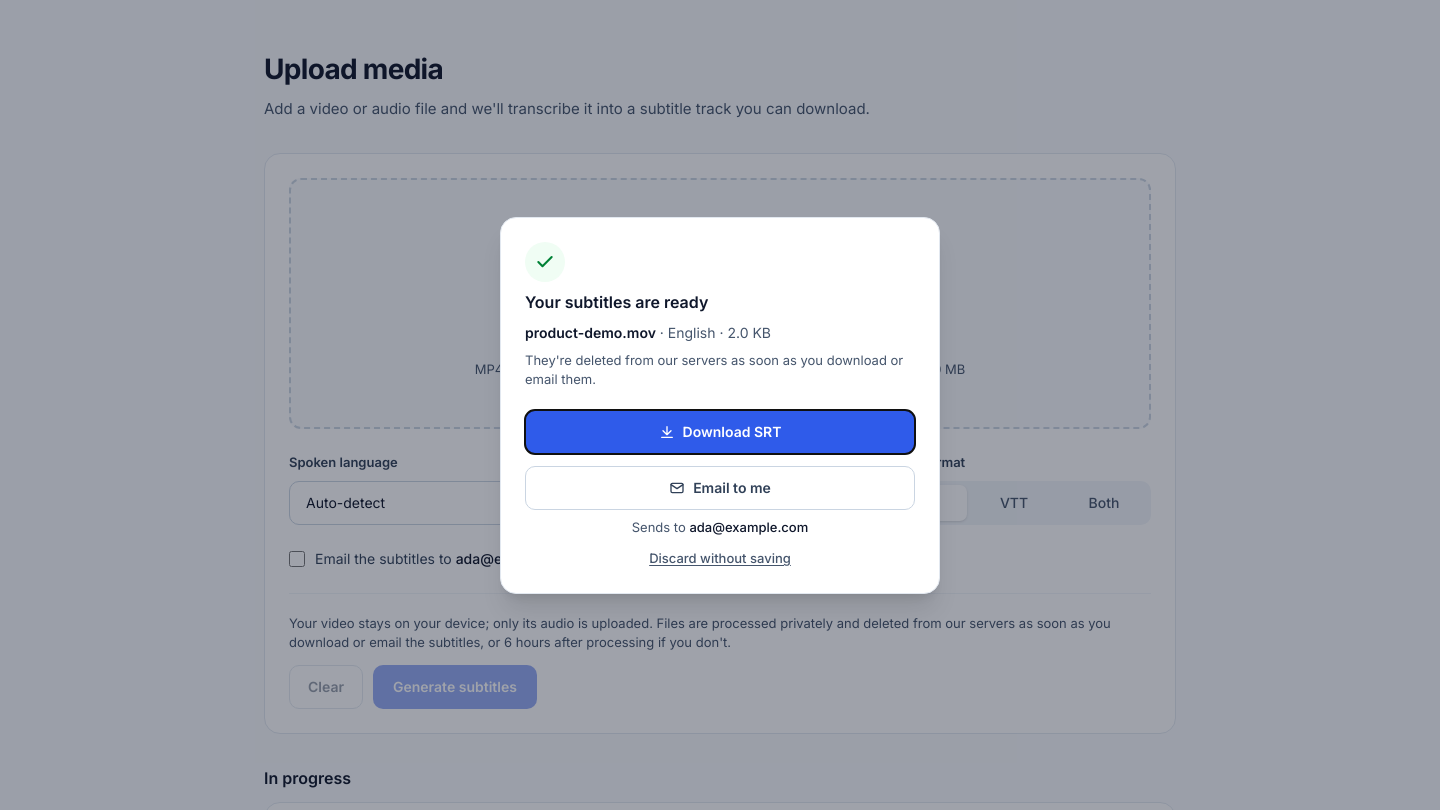
Scenario: ready subtitles › shows why discarding failed and stays open
This screenshot has width=1440, height=810.
Click the button "Discard without saving". click: (720, 559)
box: left=649, top=549, right=791, bottom=568
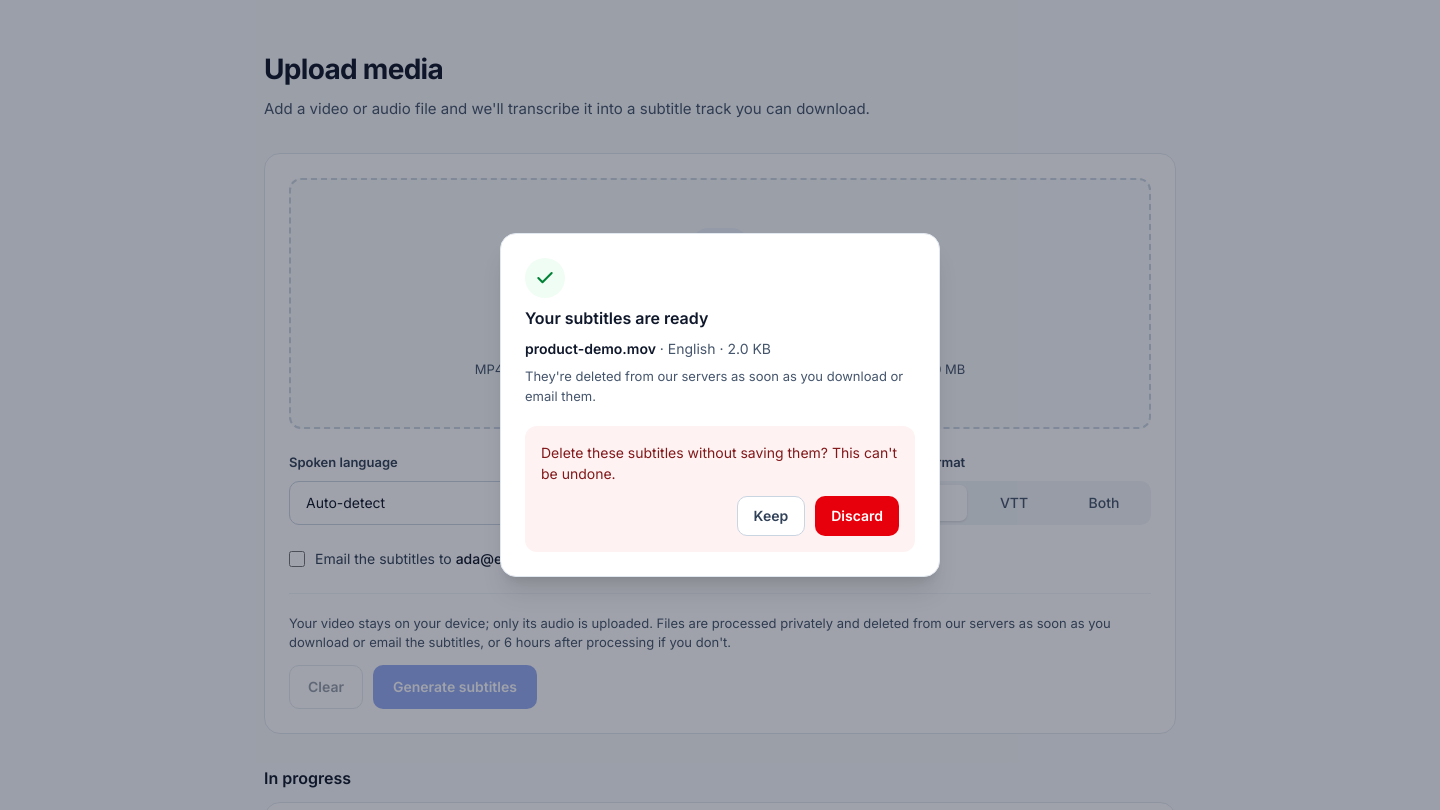
Click the button "Discard". click: (857, 516)
box: left=815, top=496, right=899, bottom=536
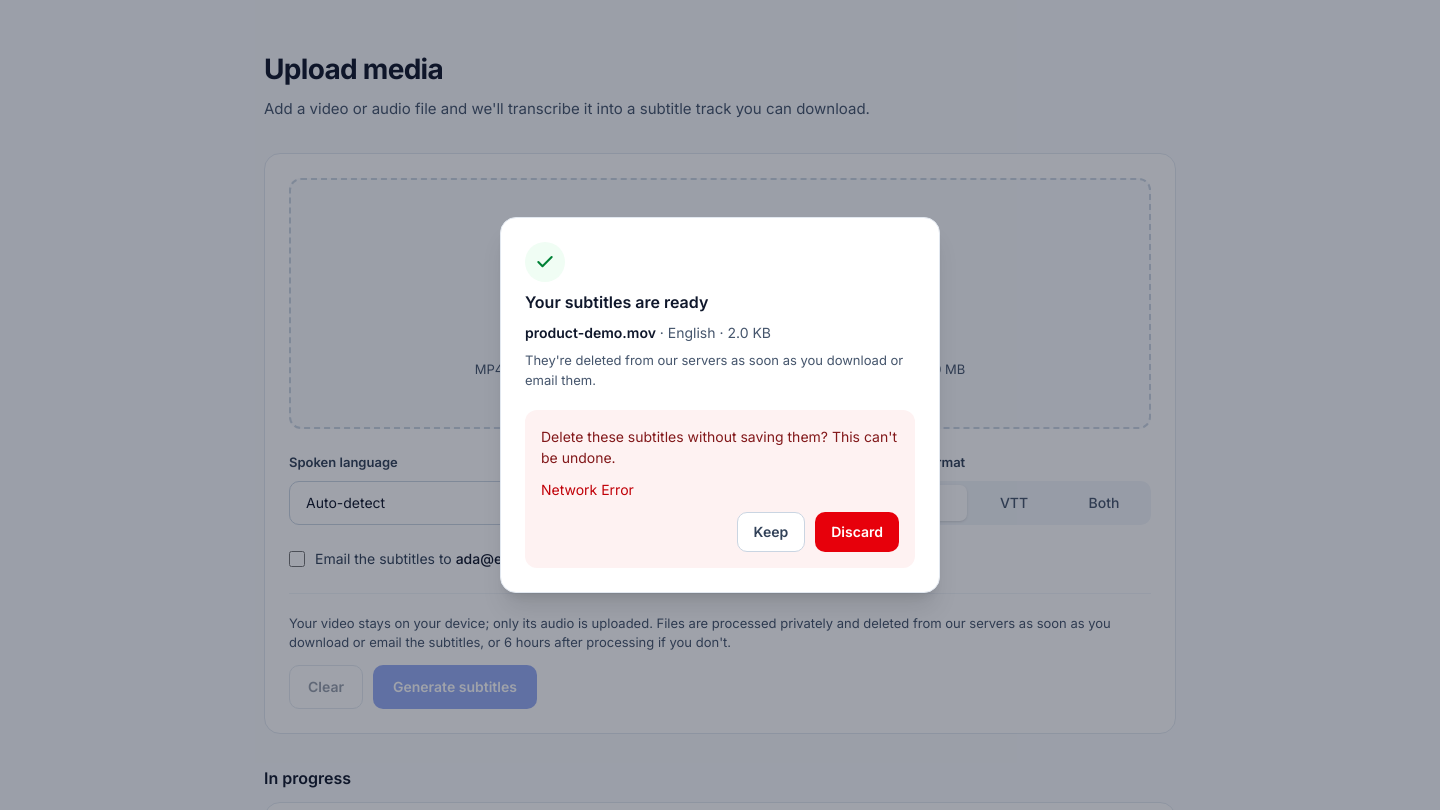
Expected: the message "Network Error" is shown, left=541, top=481, right=634, bottom=498
